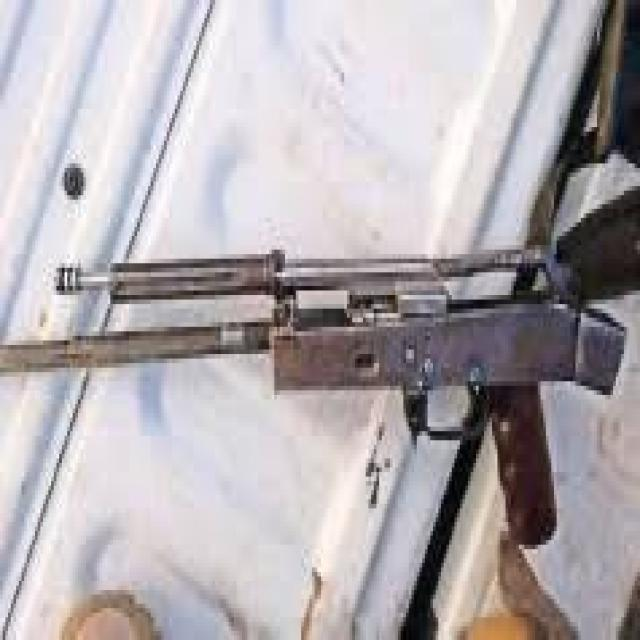weapon: (0, 243, 627, 552)
